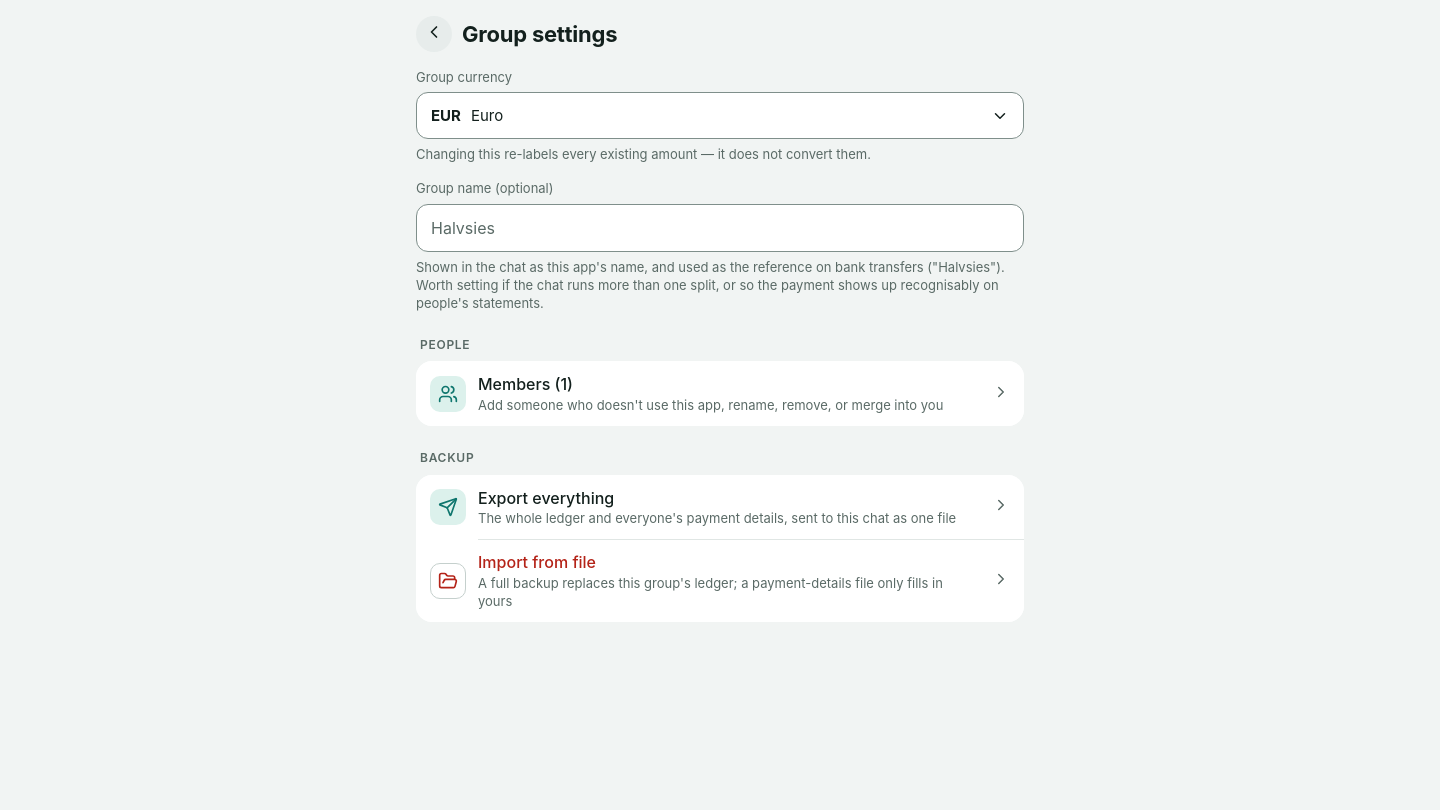
restore from file › E2 — refuses a negative amount and leaves the ledger untouched
Press the mouse on the button that starts with "Import from file" at (720, 581), box [416,539,1024,622]
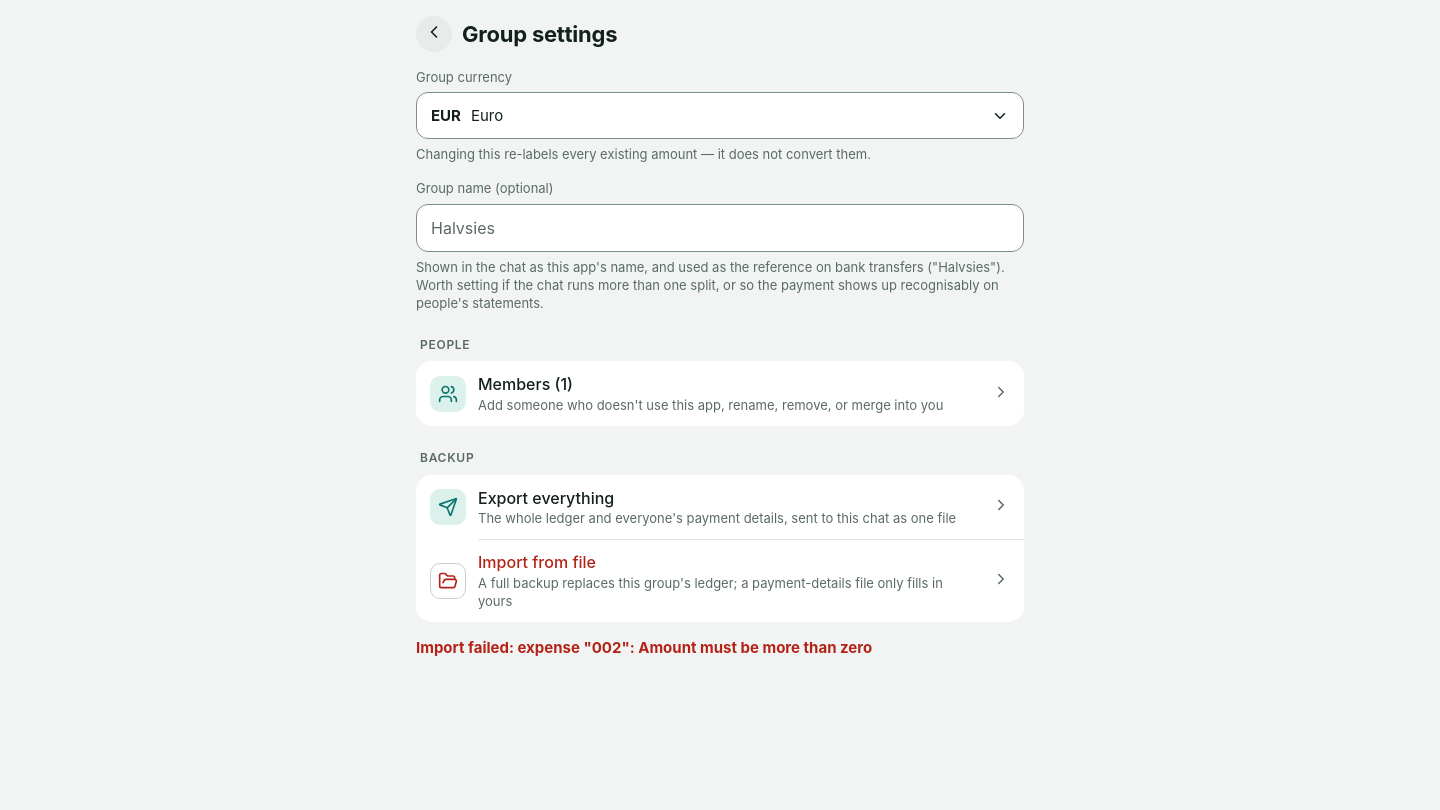
Result: the message "Import failed: expense \"002\": Amount must be more than zero" is shown at [416,638,872,657]
